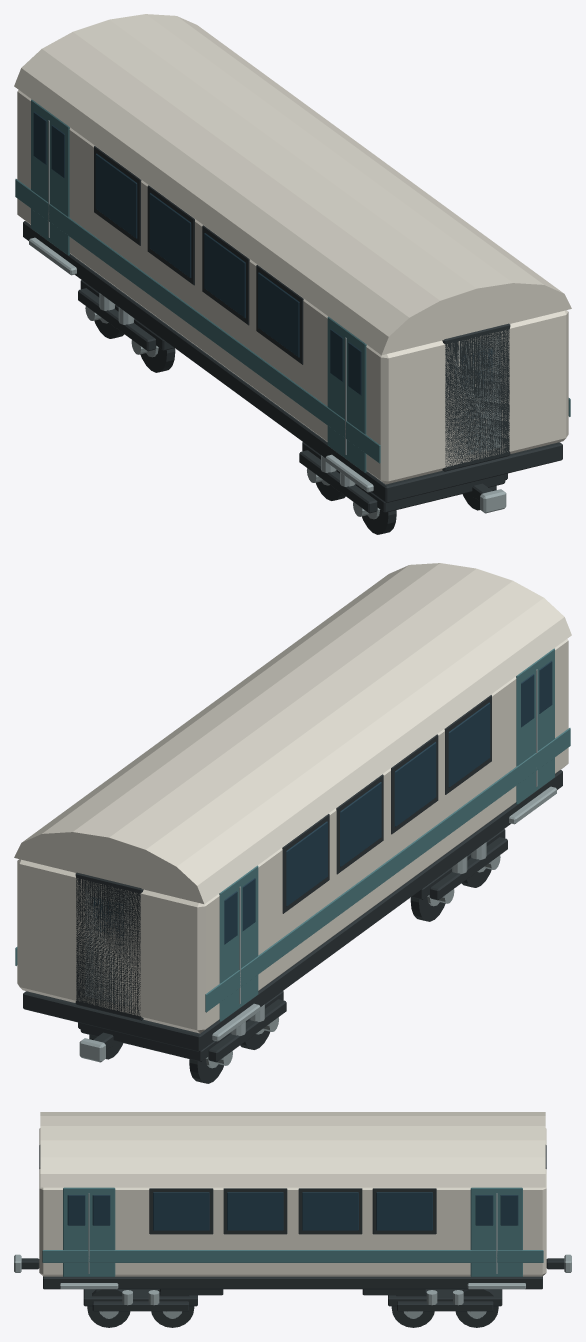
The model's file is train-passenger-01-v2.glb.
3 views of the same model, one above another, from view 1: azimuth 30°, elevation 25°; view 2: azimuth 150°, elevation 25°; view 3: azimuth 270°, elevation 25° (orthographic). The views are drawn at different scales.
Parts seen in each view (by area): view 1: RoundedRoof, PassengerBody, Underframe, EndGangway, FleetBand, PassengerDoor, PassengerDoor.001, WindowGlass.003, WindowGlass.002, WindowGlass.001, WindowGlass, GangwayDoor (+7 smaller); view 2: RoundedRoof, PassengerBody, Underframe, EndGangway.001, FleetBand, PassengerDoor.001, PassengerDoor, WindowGlass, WindowGlass.001, WindowGlass.002, WindowGlass.003, GangwayDoor.001 (+7 smaller); view 3: RoundedRoof, PassengerBody, FleetBand.001, Underframe, PassengerDoor.002, PassengerDoor.003, WindowGlass.004, WindowGlass.005, WindowGlass.006, WindowGlass.007, BogieSideFrame.001, BogieSideFrame.003 (+18 smaller).
Part boxes in pixels (x1,y1,x2,y2): RoundedRoof: (14, 14, 571, 355); PassengerBody: (17, 90, 568, 484); Underframe: (23, 221, 562, 502); EndGangway: (442, 323, 510, 471); FleetBand: (15, 179, 380, 463); PassengerDoor: (327, 316, 366, 472); PassengerDoor.001: (31, 99, 69, 255); WindowGlass.003: (95, 153, 137, 238); WindowGlass.002: (149, 193, 191, 277); WindowGlass.001: (204, 233, 245, 318); WindowGlass: (258, 272, 299, 357); GangwayDoor: (454, 336, 500, 457); RoundedRoof: (14, 563, 571, 904); PassengerBody: (17, 639, 568, 1033); Underframe: (23, 770, 562, 1051); EndGangway.001: (75, 872, 143, 1020); FleetBand: (205, 728, 570, 1012); PassengerDoor.001: (219, 865, 258, 1021); PassengerDoor: (516, 648, 554, 804); WindowGlass: (448, 702, 490, 787); WindowGlass.001: (394, 742, 436, 826); WindowGlass.002: (340, 782, 381, 867); WindowGlass.003: (286, 821, 327, 906); GangwayDoor.001: (85, 886, 131, 1006); RoundedRoof: (40, 1112, 545, 1187); PassengerBody: (39, 1128, 546, 1276); FleetBand.001: (42, 1250, 543, 1262); Underframe: (43, 1276, 542, 1289); PassengerDoor.002: (63, 1187, 115, 1276); PassengerDoor.003: (470, 1187, 522, 1276); WindowGlass.004: (153, 1192, 209, 1230); WindowGlass.005: (227, 1192, 283, 1230); WindowGlass.006: (302, 1192, 358, 1230); WindowGlass.007: (376, 1192, 432, 1230); BogieSideFrame.001: (92, 1301, 188, 1311); BogieSideFrame.003: (397, 1301, 493, 1311).
Size of the model in its own units: 3 by 4 by 11.
